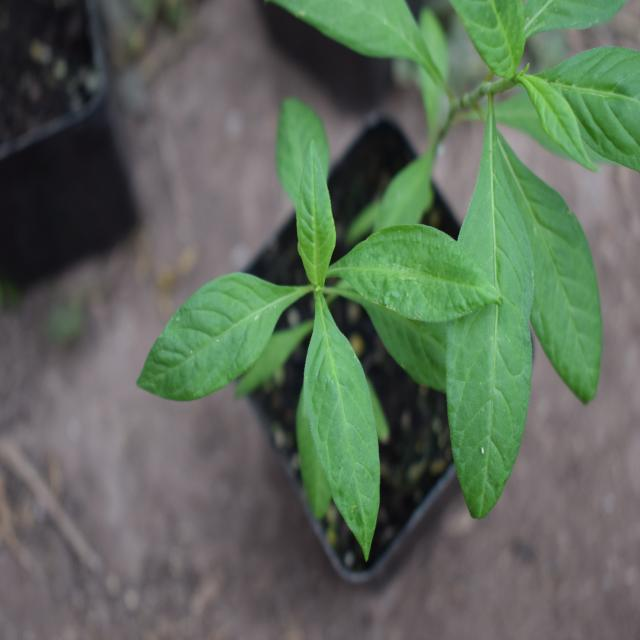white_smart_weed: (148, 123, 489, 524)
